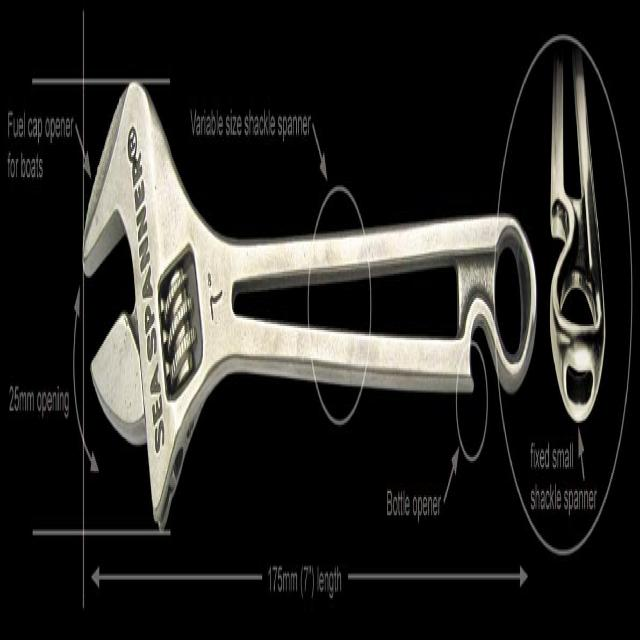wrench: (61, 77, 327, 531)
